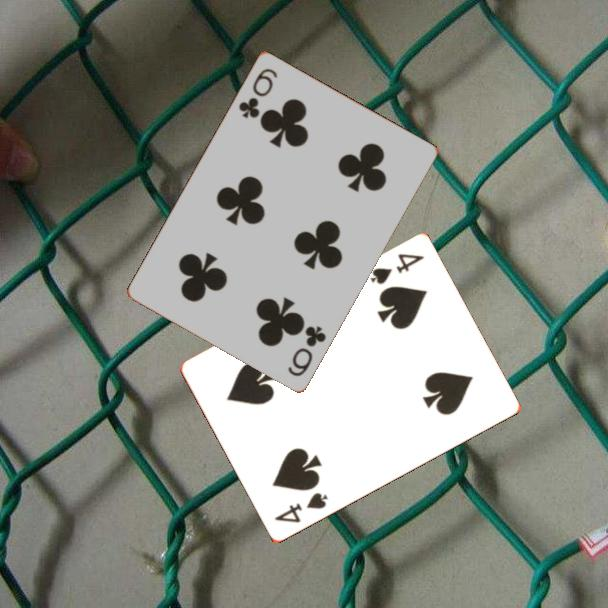c06: (284, 321, 329, 379), (235, 64, 280, 121)
s04: (366, 250, 427, 288), (271, 489, 331, 526)
